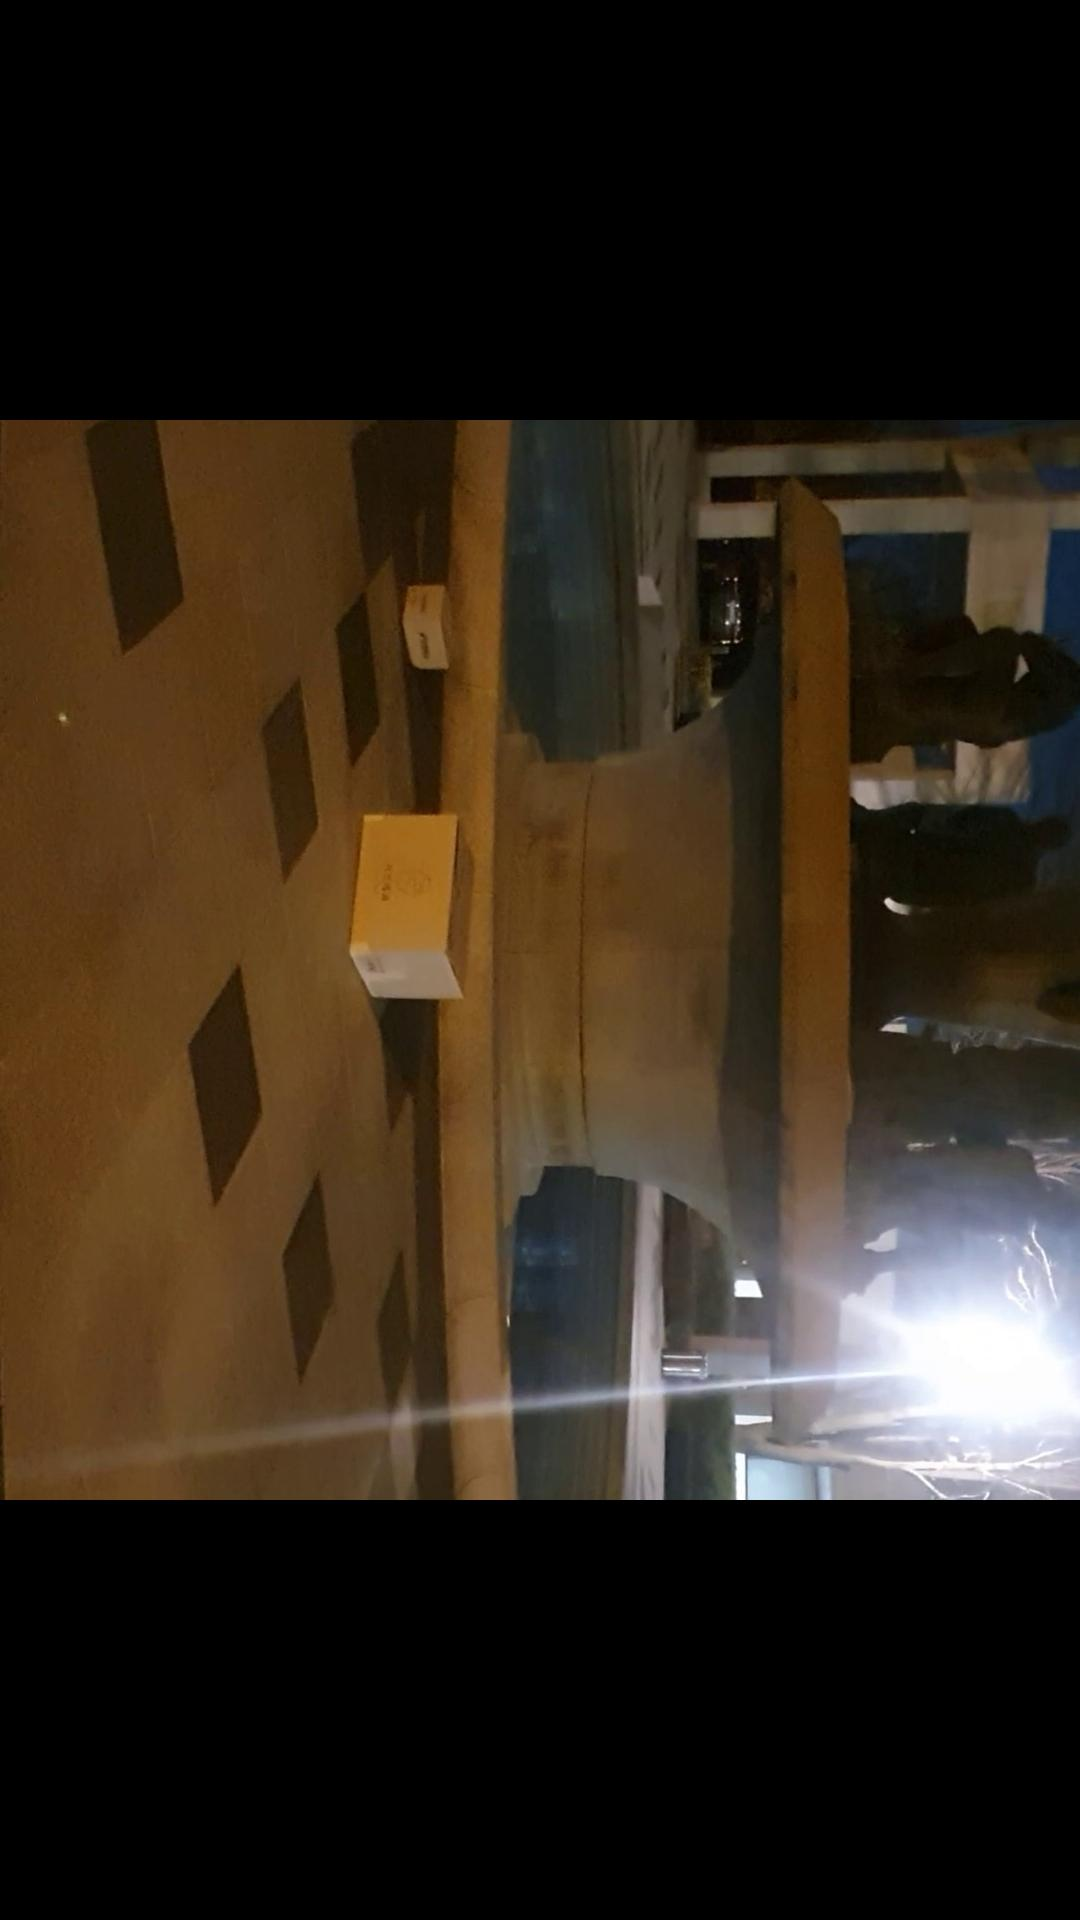Box: (343, 806, 480, 1013), (393, 558, 465, 682)
